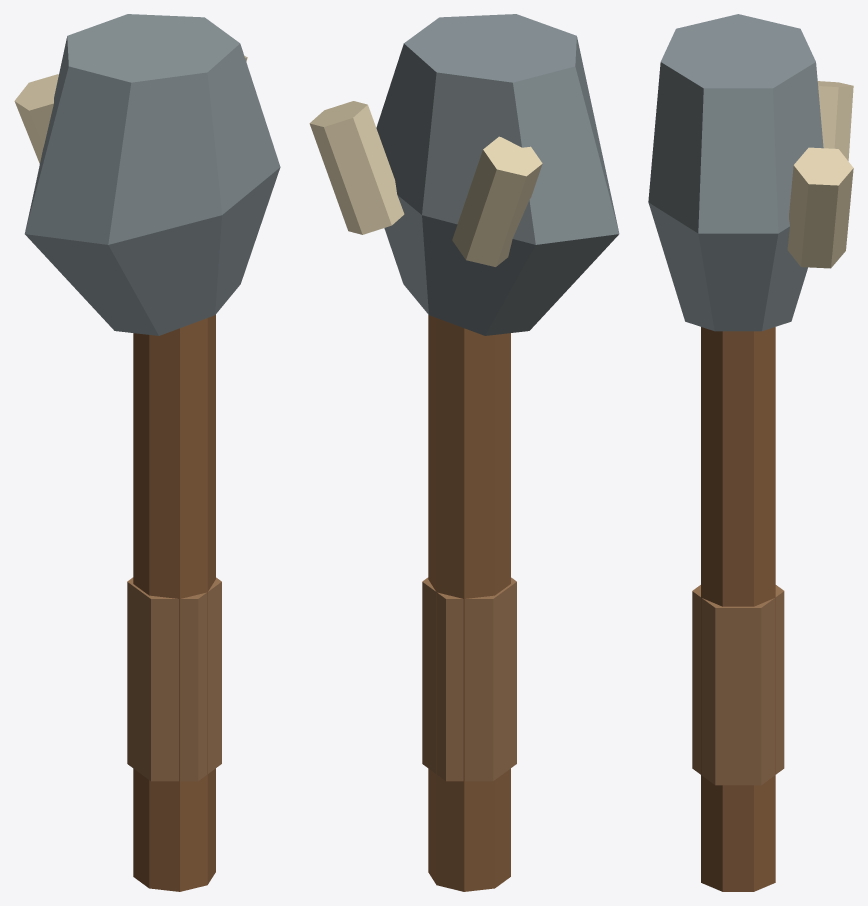
File: flint_maul.glb
The picture shows the model from 3 angles, left to right: view 1: azimuth 30°, elevation 25°; view 2: azimuth 150°, elevation 25°; view 3: azimuth 270°, elevation 25°; orthographic projection. The views are drawn at different scales.
Visible parts, largest first — view 1: flint_maul; view 2: flint_maul; view 3: flint_maul.
Part boxes in pixels (x1,y1,x2,y2): flint_maul: (14,14,280,891); flint_maul: (309,14,619,891); flint_maul: (648,14,853,891).
Bounding box in the file's own units: 0.4166 × 1.28 × 0.2936.
